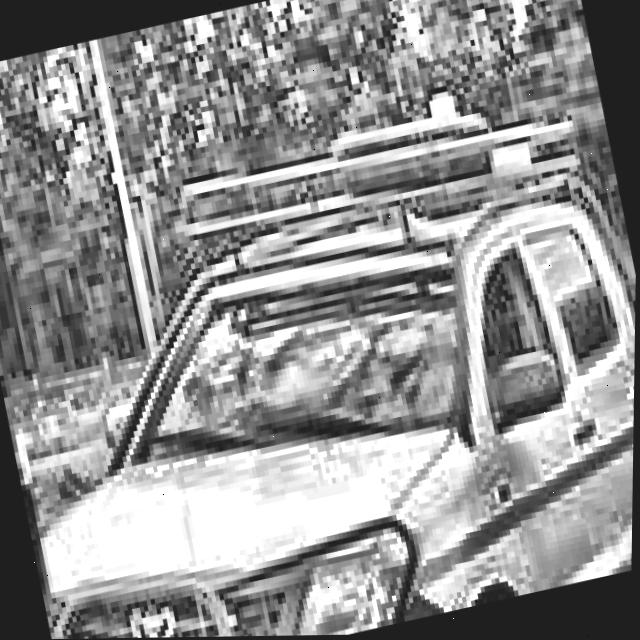light_vehicle: (0, 37, 639, 640)
